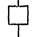Cable Termination Box: (7, 4, 31, 26)
